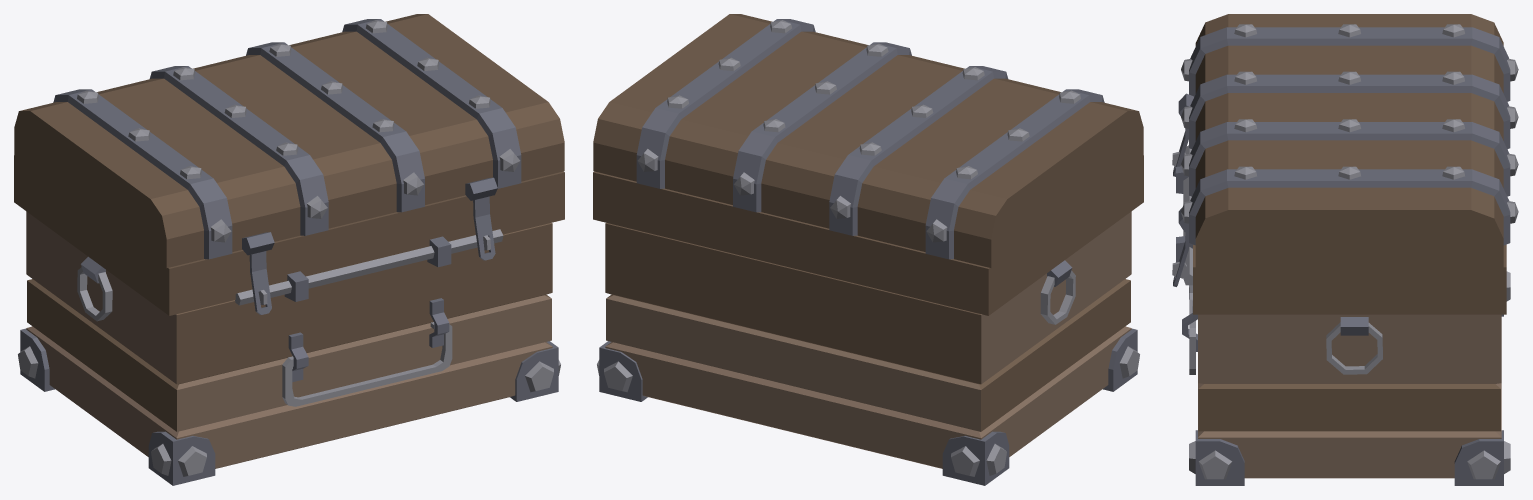
Rendered from _trunk_17.fbx.
The picture shows the model from 3 angles, left to right: view 1: azimuth 30°, elevation 25°; view 2: azimuth 150°, elevation 25°; view 3: azimuth 270°, elevation 25°; orthographic projection.
Visible parts, largest first — view 1: trunk_17; view 2: trunk_17; view 3: trunk_17.
Boxes of the visible parts, x1,y1,x2,y2 form: trunk_17: [14, 14, 564, 485]; trunk_17: [593, 14, 1143, 485]; trunk_17: [1172, 14, 1518, 485].
Size of the model in its own units: 97.38 by 67.67 by 72.6.
